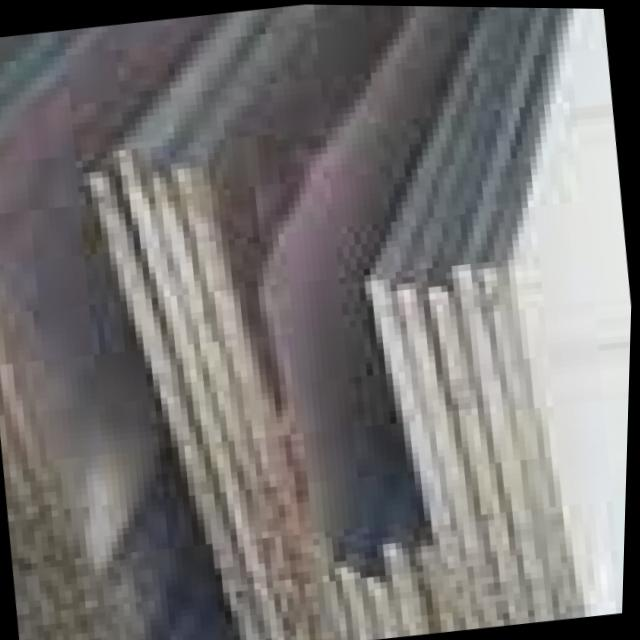metal-plates: (1, 4, 634, 640)
